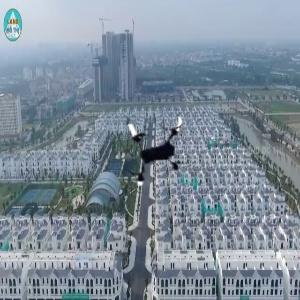drone: (113, 105, 197, 189)
